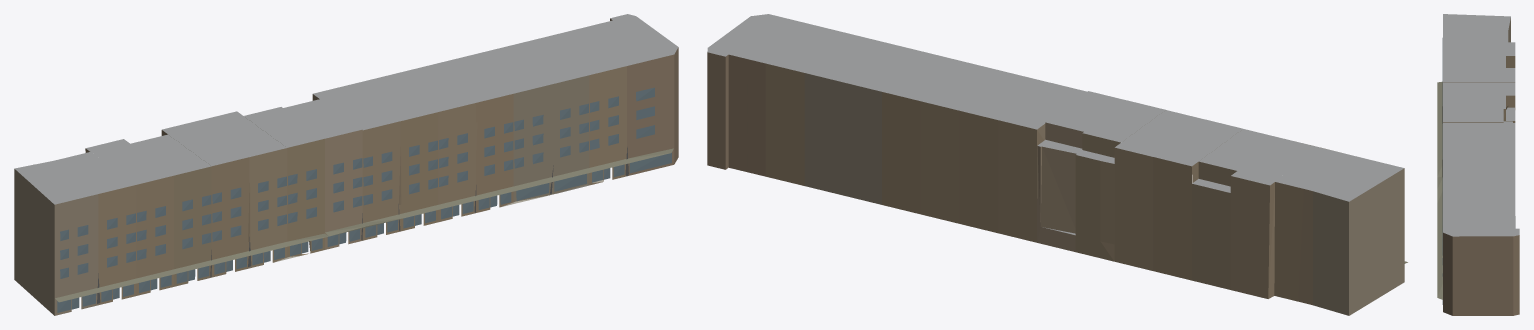
The model's file is chunk-face-evertsen-59-89.lod2.glb.
3 views of the same model, side by side, from view 1: azimuth 30°, elevation 25°; view 2: azimuth 150°, elevation 25°; view 3: azimuth 270°, elevation 25° (orthographic). The views are drawn at different scales.
Parts seen in each view (by area): view 1: lod2; view 2: lod2; view 3: lod2.
Boxes of the visible parts, x1,y1,x2,y2 form: lod2: (14, 14, 678, 315); lod2: (707, 14, 1407, 315); lod2: (1437, 14, 1519, 315).
Size of the model in its own units: 100 by 16.91 by 15.78.
